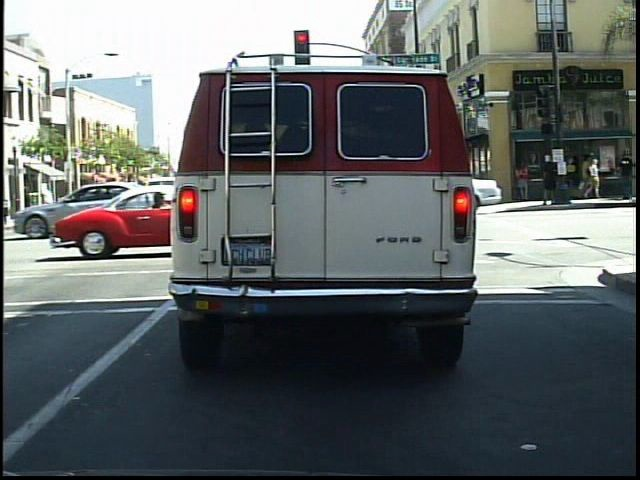person: (612, 141, 636, 209), (539, 151, 562, 209), (514, 156, 534, 197)
